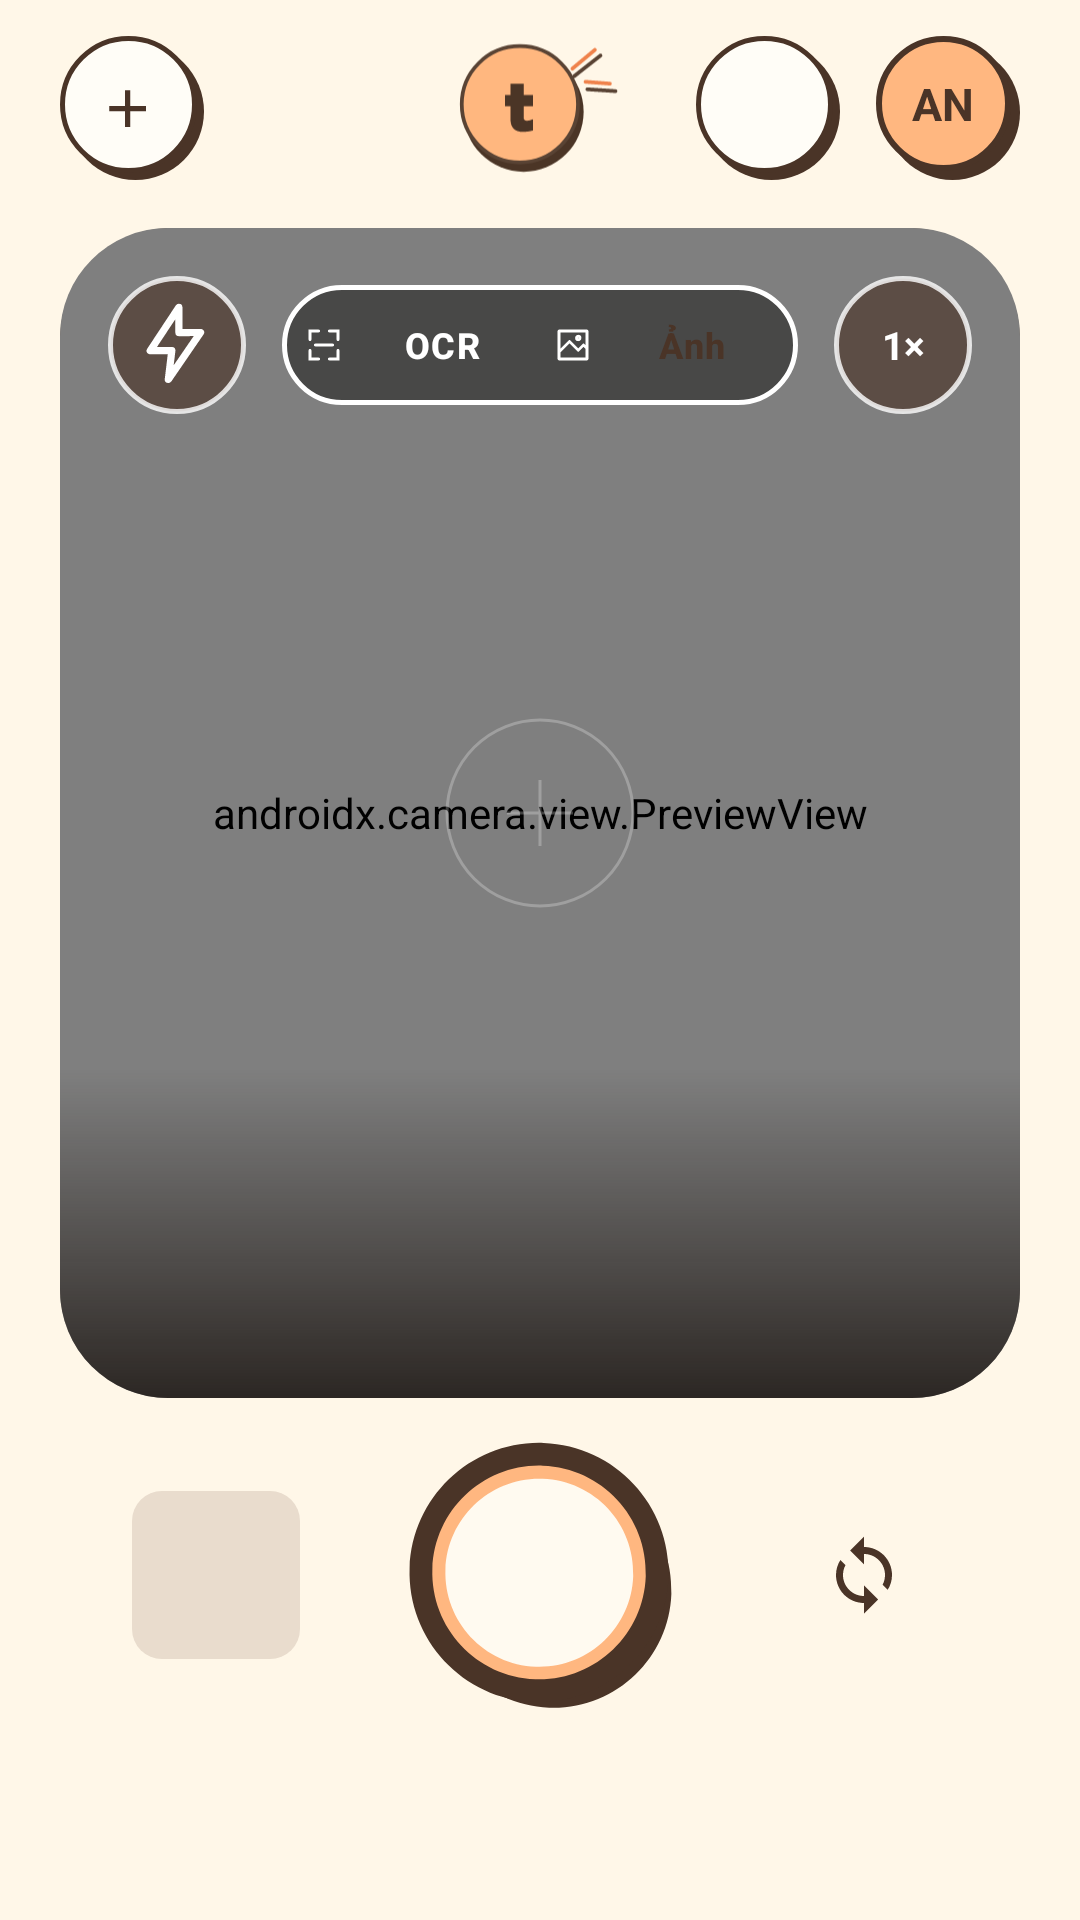

Named icons in this screenshot (1080x1920) and their bounding boxes, (x1,y1,x2,y2):
Bật hoặc tắt đèn flash: (108,276,246,414)
Lật camera: (836,1537,892,1614)
Thêm khoản chi: (60,36,204,180)
